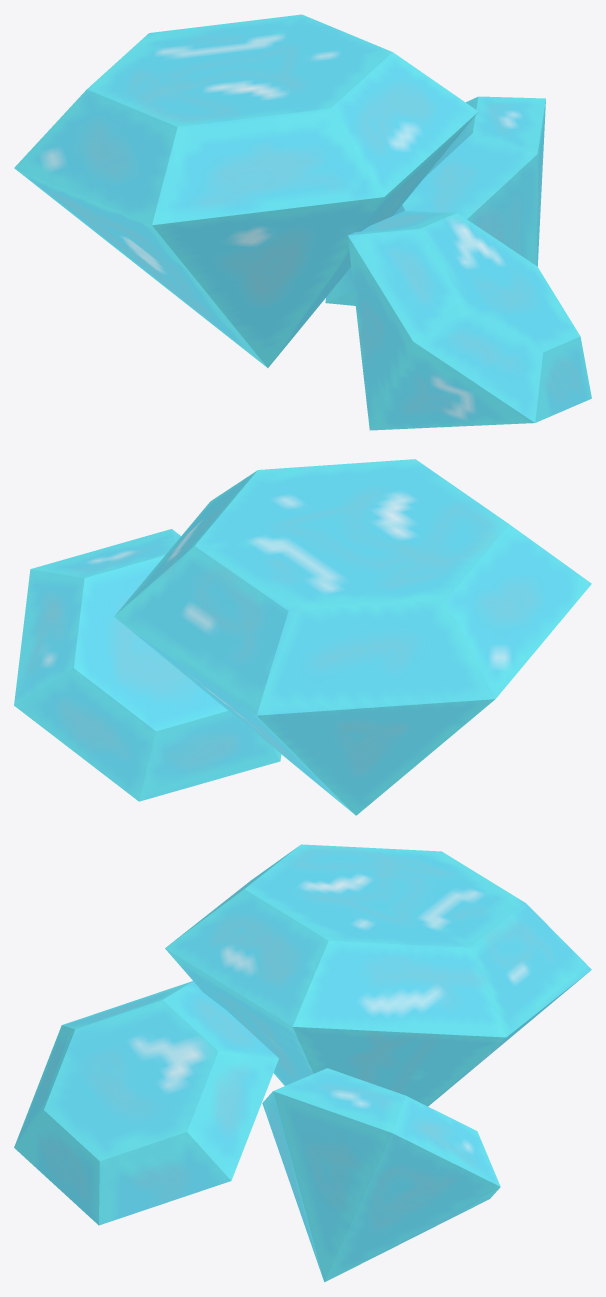
Rendered from precious_material.glb.
The picture shows the model from 3 angles, top to bottom: view 1: azimuth 30°, elevation 25°; view 2: azimuth 150°, elevation 25°; view 3: azimuth 270°, elevation 25°; orthographic projection. The views are drawn at different scales.
Parts seen in each view (by area): view 1: Precious_material; view 2: Precious_material; view 3: Precious_material.
Boxes of the visible parts, box(x1,y1,x2,y2) form: Precious_material: box(14, 14, 591, 430); Precious_material: box(14, 459, 591, 815); Precious_material: box(14, 844, 591, 1282).
Bounding box in the file's own units: 1.62 × 0.9603 × 1.78.
1 material, 1 textured.
